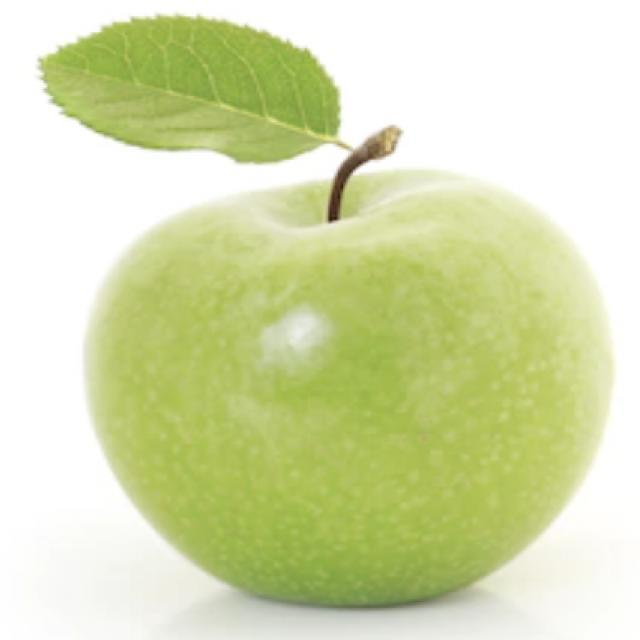Fresh Apple: (80, 150, 580, 605)
